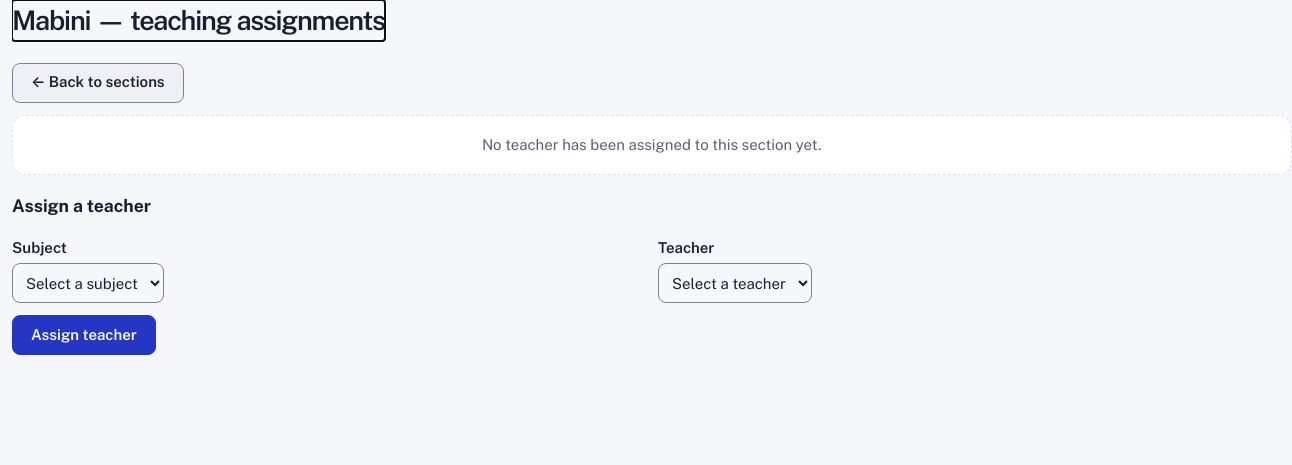
Test: TeachingAssignmentsScreen › assigns a teacher and shows the new assignment
Select "Mathematics" in the dropdown labelled "Subject" at (88, 283), box [12,263,164,303]
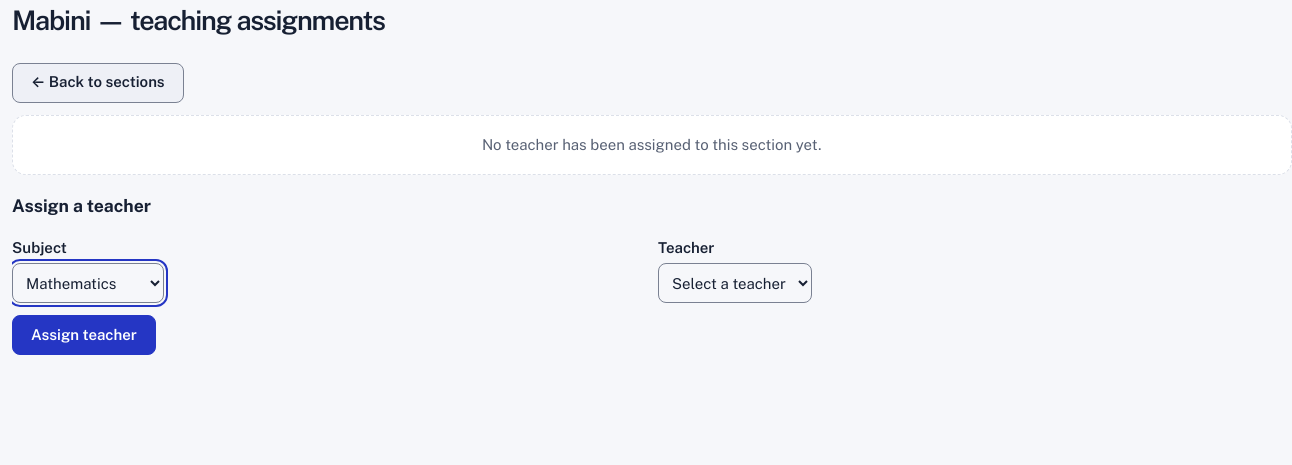
Select "Ana Cruz" in the dropdown labelled "Teacher" at (735, 283), box [658,263,812,303]
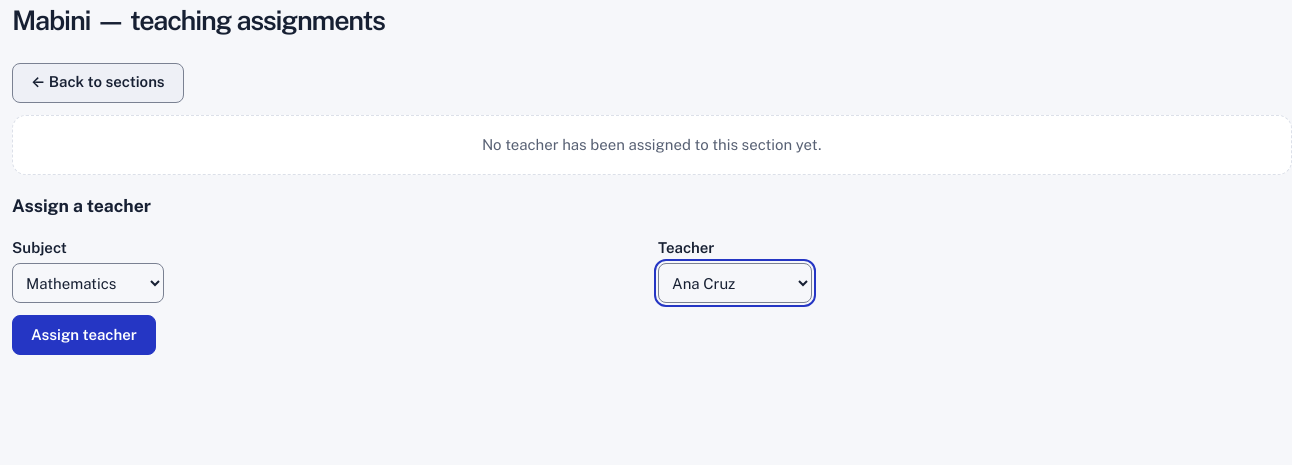
Click the button "Assign teacher".
click(84, 335)  # box [12,315,156,355]
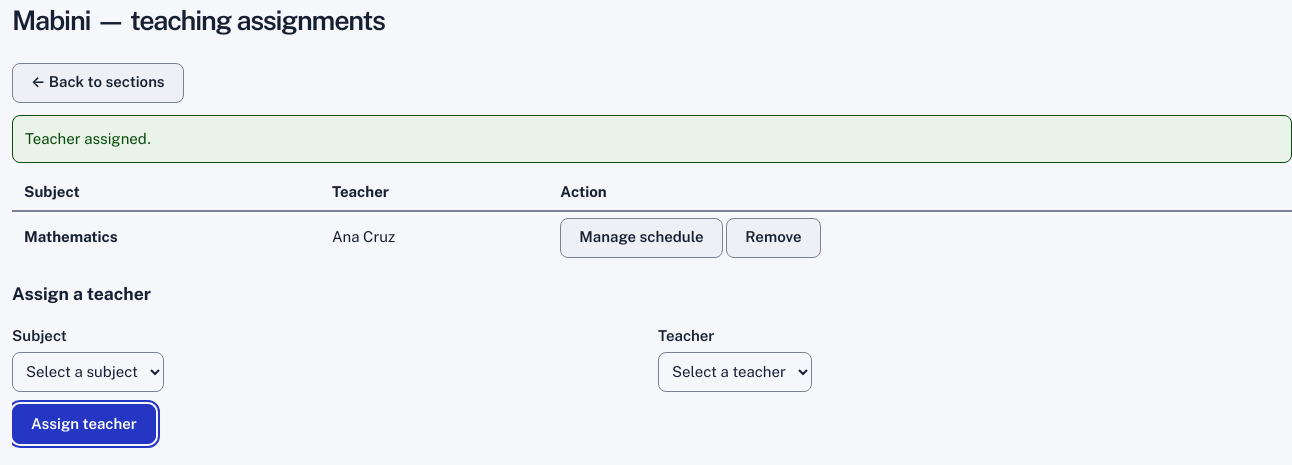
Check: the text "Teacher assigned." is shown, box [12,115,1291,163]
Check: the cell "Ana Cruz" is shown, box [320,211,548,264]
